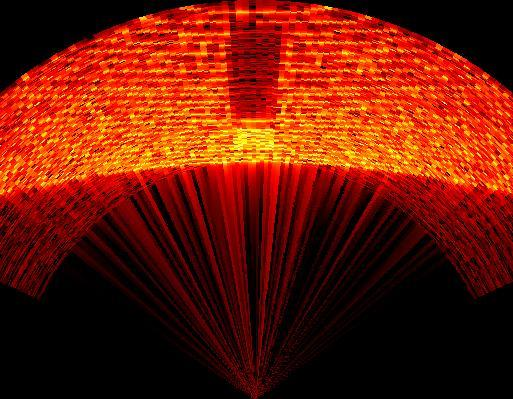box_crate: (225, 17, 288, 126)
